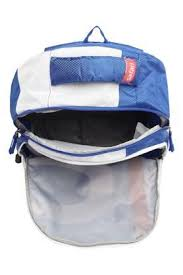backpack: (8, 25, 174, 247)
